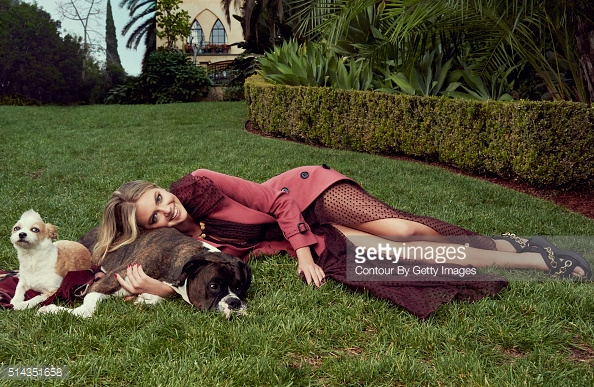deitado: (89, 157, 424, 282)
